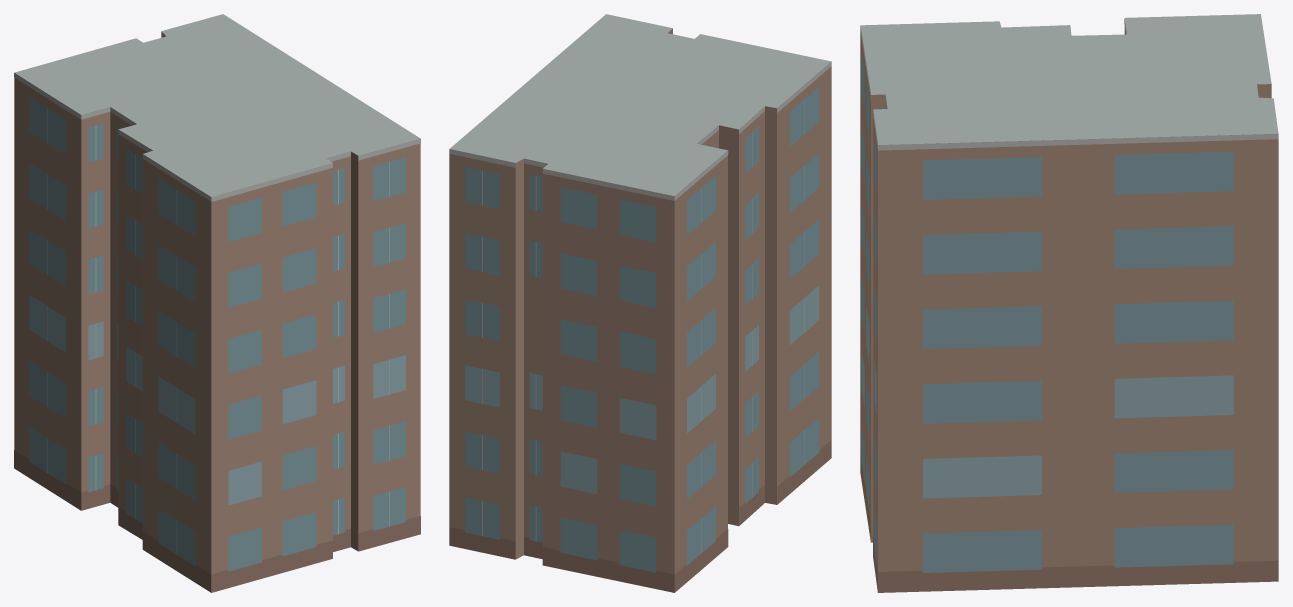
File: survey-upis-32992713.glb
The picture shows the model from 3 angles, left to right: view 1: azimuth 30°, elevation 25°; view 2: azimuth 150°, elevation 25°; view 3: azimuth 270°, elevation 25°; orthographic projection. The views are drawn at different scales.
Parts seen in each view (by area): view 1: survey-upis-32992713.tmp; view 2: survey-upis-32992713.tmp; view 3: survey-upis-32992713.tmp.
Boxes of the visible parts, left/top/right/bottom form: survey-upis-32992713.tmp: left=14, top=14, right=420, bottom=592; survey-upis-32992713.tmp: left=449, top=14, right=831, bottom=592; survey-upis-32992713.tmp: left=860, top=14, right=1278, bottom=592.
Size of the model in its own units: 12.63 by 20.1 by 17.02.
